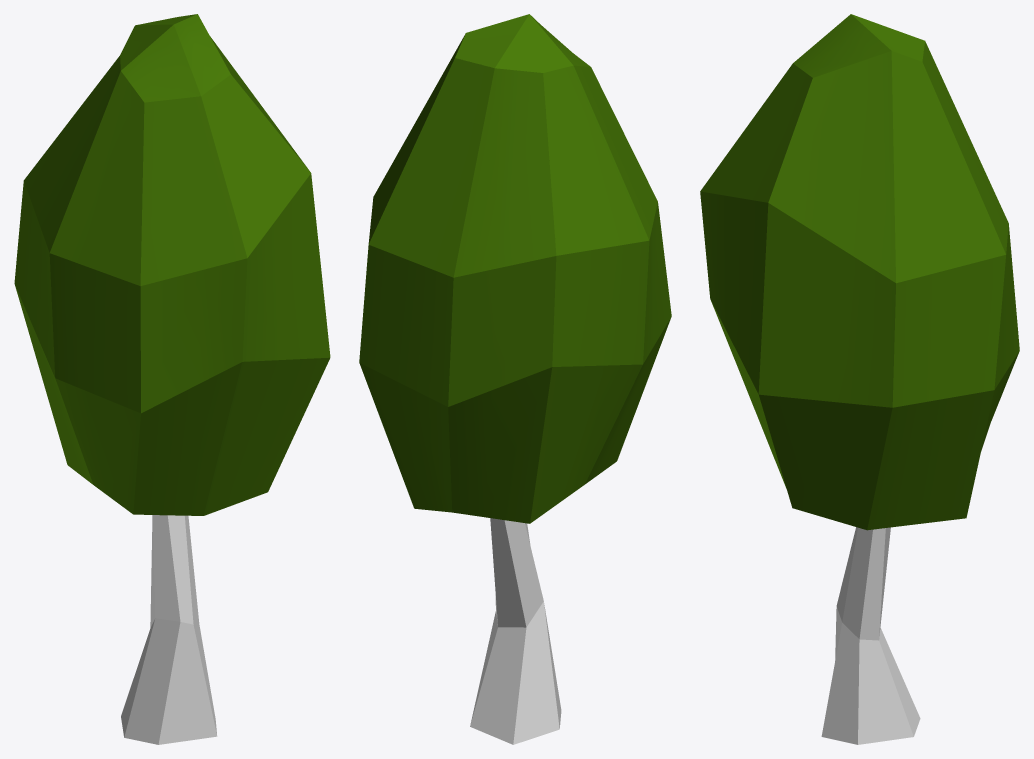
The model's file is Tree_01.fbx.
The picture shows the model from 3 angles, left to right: view 1: azimuth 30°, elevation 25°; view 2: azimuth 150°, elevation 25°; view 3: azimuth 270°, elevation 25°; orthographic projection.
Visible parts, largest first — view 1: Tree_01; view 2: Tree_01; view 3: Tree_01.
Part boxes in pixels (x1,y1,x2,y2): Tree_01: [14, 14, 330, 744]; Tree_01: [359, 14, 671, 744]; Tree_01: [700, 14, 1019, 744].
Size of the model in its own units: 4.41 by 11.54 by 4.69.
